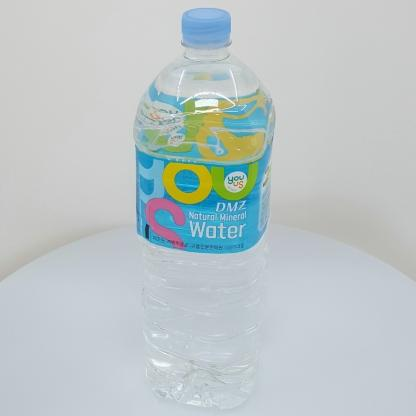--------1-5L: (133, 8, 276, 409)
